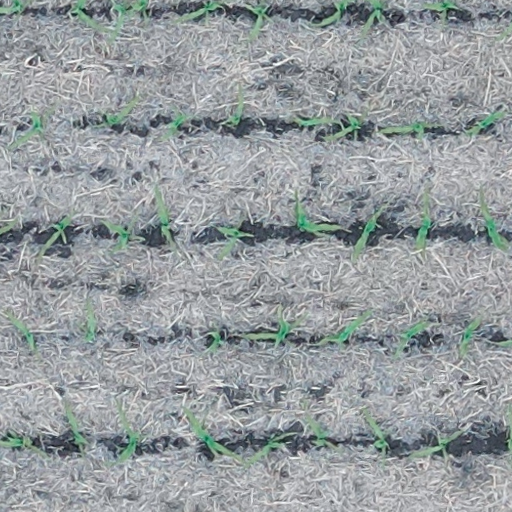planta: (182, 408, 244, 462), (109, 402, 153, 463), (241, 307, 305, 344), (408, 426, 466, 465), (291, 193, 341, 235), (315, 309, 371, 345), (350, 203, 384, 260), (303, 407, 343, 455), (477, 193, 509, 251), (244, 431, 297, 465), (38, 212, 74, 257), (392, 317, 429, 359), (7, 108, 44, 150), (362, 409, 390, 464), (152, 183, 176, 247), (95, 95, 139, 127), (5, 311, 38, 353), (215, 224, 254, 257), (413, 191, 434, 251), (324, 110, 366, 140), (380, 119, 440, 140), (101, 216, 136, 251), (65, 403, 88, 456), (464, 108, 506, 137), (458, 314, 482, 356), (164, 106, 194, 139), (223, 87, 245, 126), (293, 114, 342, 127), (83, 297, 97, 342), (203, 329, 222, 351)
